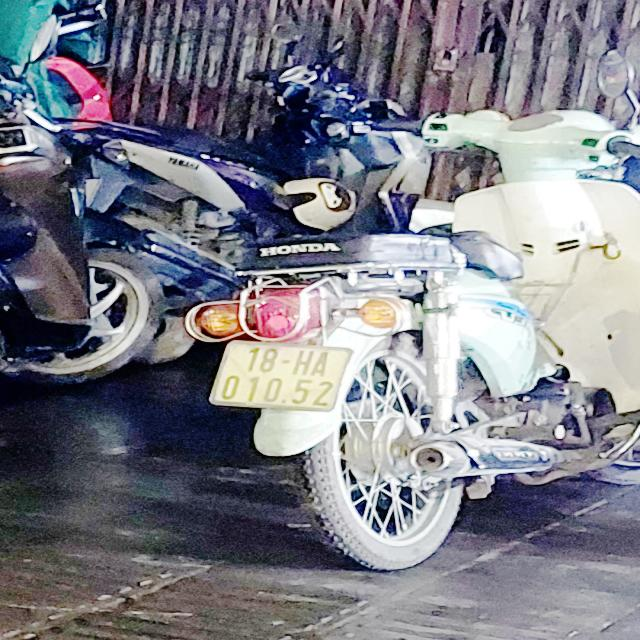license_plate: (208, 341, 356, 414)
